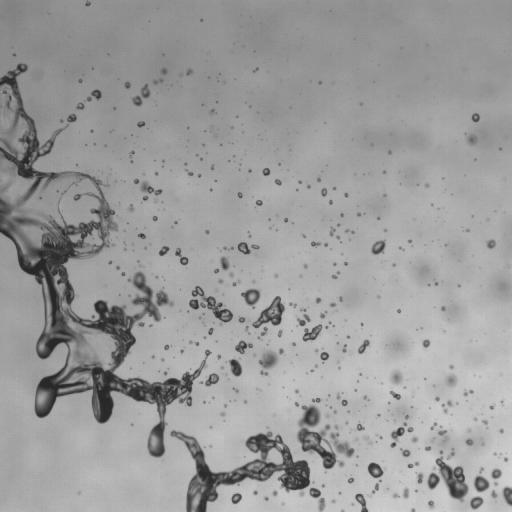droplet: (297, 397, 354, 470), (427, 450, 468, 501), (473, 467, 489, 492), (241, 288, 260, 307), (302, 324, 322, 341), (367, 462, 384, 480), (228, 358, 242, 376), (297, 308, 310, 326), (235, 340, 252, 353), (371, 240, 385, 254), (204, 373, 218, 386), (470, 496, 483, 509), (390, 370, 402, 384), (237, 242, 250, 254), (87, 90, 101, 101), (445, 373, 456, 386), (441, 400, 452, 413), (220, 256, 229, 270), (491, 468, 501, 480), (438, 428, 448, 439), (231, 493, 241, 503), (467, 134, 476, 145), (159, 246, 169, 255), (486, 239, 495, 248), (400, 449, 410, 457), (416, 472, 423, 483), (67, 114, 76, 122), (320, 352, 328, 361), (356, 422, 364, 430), (402, 488, 408, 498), (472, 113, 479, 121), (262, 168, 270, 175), (422, 339, 429, 347), (427, 500, 434, 508), (73, 194, 82, 200), (77, 102, 84, 109), (321, 188, 327, 196), (491, 490, 497, 498), (311, 241, 320, 246), (137, 121, 144, 127), (320, 311, 326, 318), (238, 316, 245, 322), (466, 438, 472, 445), (329, 227, 334, 235), (124, 82, 130, 88), (275, 179, 281, 185), (341, 400, 347, 406), (411, 436, 417, 442), (252, 244, 259, 249), (342, 344, 346, 352), (162, 68, 167, 74), (186, 170, 192, 175), (256, 200, 262, 205), (128, 205, 133, 211), (139, 233, 145, 238), (208, 328, 213, 334), (348, 477, 353, 483), (187, 69, 192, 74), (237, 192, 242, 197), (272, 490, 277, 495), (316, 297, 320, 303), (290, 303, 296, 307), (278, 330, 282, 336), (425, 446, 431, 450), (392, 493, 398, 497), (85, 1, 90, 5), (130, 151, 134, 156), (134, 179, 139, 183), (229, 272, 233, 277), (218, 278, 222, 283), (330, 303, 335, 307), (164, 345, 169, 349), (294, 389, 299, 393), (336, 394, 340, 399), (435, 396, 439, 401), (489, 405, 494, 409), (344, 193, 348, 197), (143, 196, 147, 200), (153, 216, 157, 220), (214, 269, 218, 273), (441, 306, 445, 310), (397, 309, 401, 313), (483, 420, 487, 424), (504, 457, 508, 461), (253, 490, 257, 494), (264, 496, 268, 500), (211, 109, 214, 113), (211, 165, 214, 169), (329, 200, 332, 204), (399, 247, 403, 250), (449, 365, 453, 368), (234, 388, 237, 392), (295, 402, 298, 406), (221, 412, 224, 416), (405, 415, 408, 419), (411, 508, 415, 511), (254, 68, 257, 71), (78, 79, 81, 82), (155, 172, 158, 175), (317, 178, 320, 181), (425, 184, 428, 187), (206, 230, 209, 233), (336, 236, 339, 239), (116, 266, 119, 269), (339, 297, 342, 300), (245, 327, 248, 330), (195, 342, 198, 345), (217, 355, 220, 358), (164, 371, 167, 374), (364, 396, 367, 399), (474, 417, 477, 420), (500, 429, 503, 432), (494, 482, 497, 485), (332, 499, 335, 502), (58, 210, 60, 214), (388, 151, 391, 153), (198, 174, 200, 177), (307, 185, 310, 187), (1, 188, 4, 190), (39, 196, 41, 199), (357, 213, 360, 215), (340, 214, 343, 216), (284, 219, 287, 221), (303, 234, 305, 237), (409, 240, 411, 243), (224, 247, 227, 249), (229, 247, 232, 249), (304, 265, 307, 267), (435, 282, 437, 285), (292, 343, 295, 345), (336, 342, 339, 344), (180, 350, 183, 352), (74, 182, 76, 184), (62, 192, 64, 194), (325, 243, 327, 245), (109, 261, 111, 263), (122, 273, 124, 275), (361, 323, 363, 325), (347, 336, 349, 338), (190, 341, 192, 343), (315, 350, 317, 352), (311, 369, 313, 371), (501, 401, 503, 403), (322, 484, 324, 486), (415, 489, 417, 491), (369, 494, 371, 496)
ligament: (0, 63, 210, 457), (171, 431, 323, 511), (189, 286, 232, 323), (252, 296, 285, 328), (259, 348, 283, 375), (390, 423, 413, 447), (132, 85, 150, 105), (140, 181, 161, 195), (355, 493, 369, 511), (175, 248, 188, 266), (502, 486, 511, 506), (358, 339, 369, 353), (258, 327, 267, 339), (390, 390, 400, 399), (372, 482, 379, 493), (447, 449, 454, 459), (408, 461, 419, 467), (363, 436, 371, 444), (463, 390, 473, 396), (332, 271, 339, 278), (430, 422, 437, 429), (232, 280, 239, 286), (154, 79, 162, 83), (346, 229, 353, 233), (377, 435, 381, 438), (341, 510, 344, 511)
